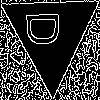D: (26, 9, 68, 47)
